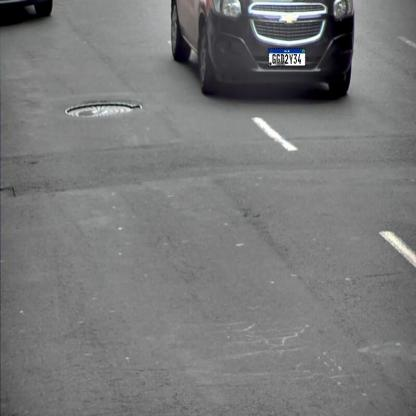PlacaM: (268, 48, 306, 66)
